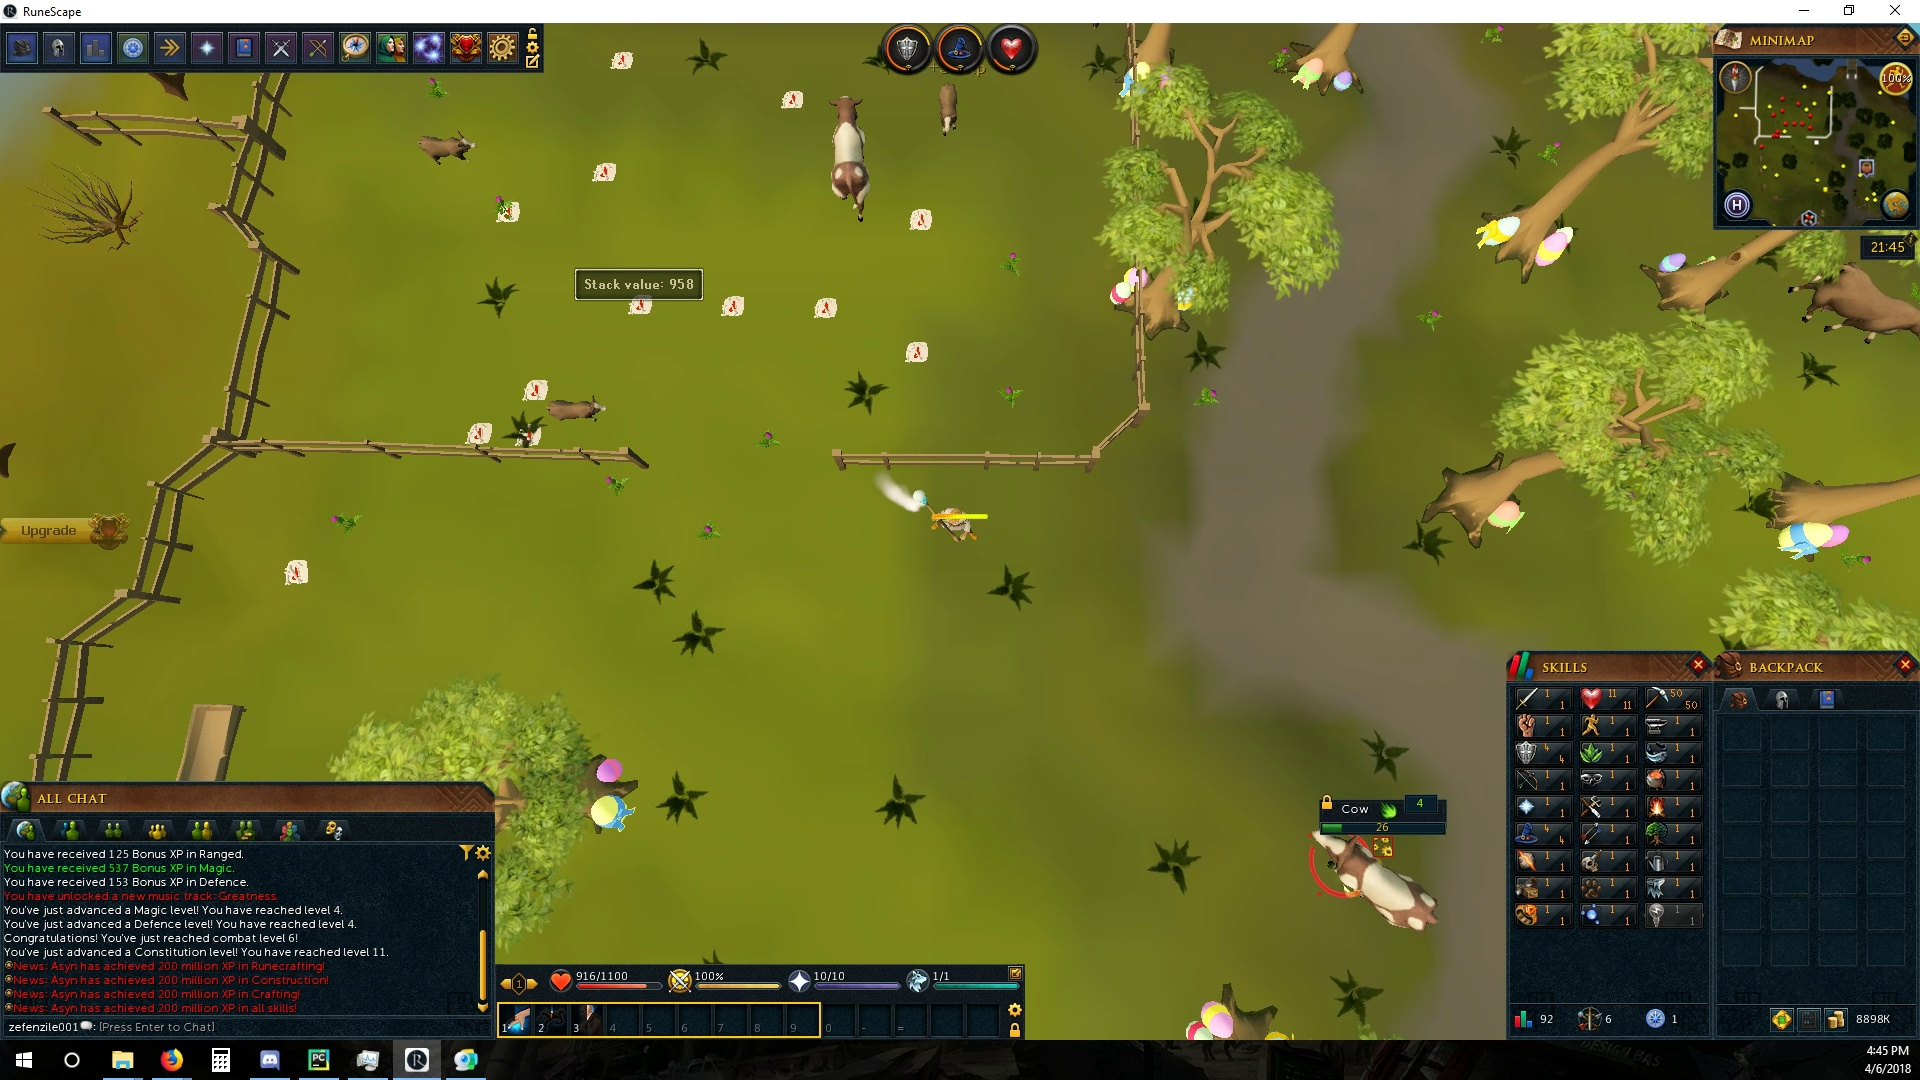calf: (535, 394, 612, 429), (417, 129, 481, 167), (939, 82, 961, 137)
cow: (1307, 829, 1440, 934), (825, 91, 877, 225)
cow_drop: (464, 419, 495, 450), (903, 204, 936, 232), (282, 556, 313, 585), (810, 295, 840, 323), (492, 196, 524, 223), (521, 376, 550, 404), (607, 50, 636, 78), (510, 423, 542, 448), (774, 84, 806, 109), (626, 294, 659, 318), (591, 157, 618, 185), (902, 338, 928, 365), (721, 291, 746, 316)
